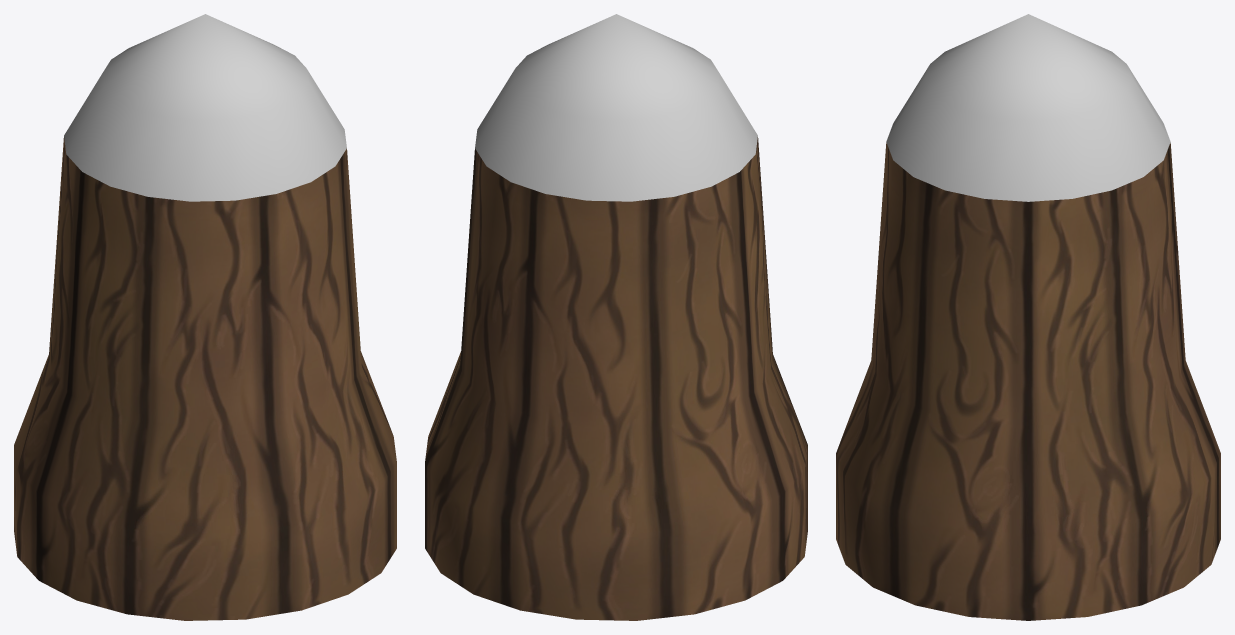
3 views of the same model, side by side, from view 1: azimuth 30°, elevation 25°; view 2: azimuth 150°, elevation 25°; view 3: azimuth 270°, elevation 25° (orthographic).
Parts seen in each view (by area): view 1: Base, pCone1; view 2: Base, pCone1; view 3: Base, pCone1.
Part boxes in pixels (box(x1,y1,x2,y2)): Base: box(14, 137, 396, 620); pCone1: box(64, 14, 346, 201); Base: box(425, 137, 807, 620); pCone1: box(475, 14, 757, 201); Base: box(836, 142, 1220, 620); pCone1: box(886, 14, 1170, 201).
Size of the model in its own units: 2.71 by 4.08 by 2.71.
